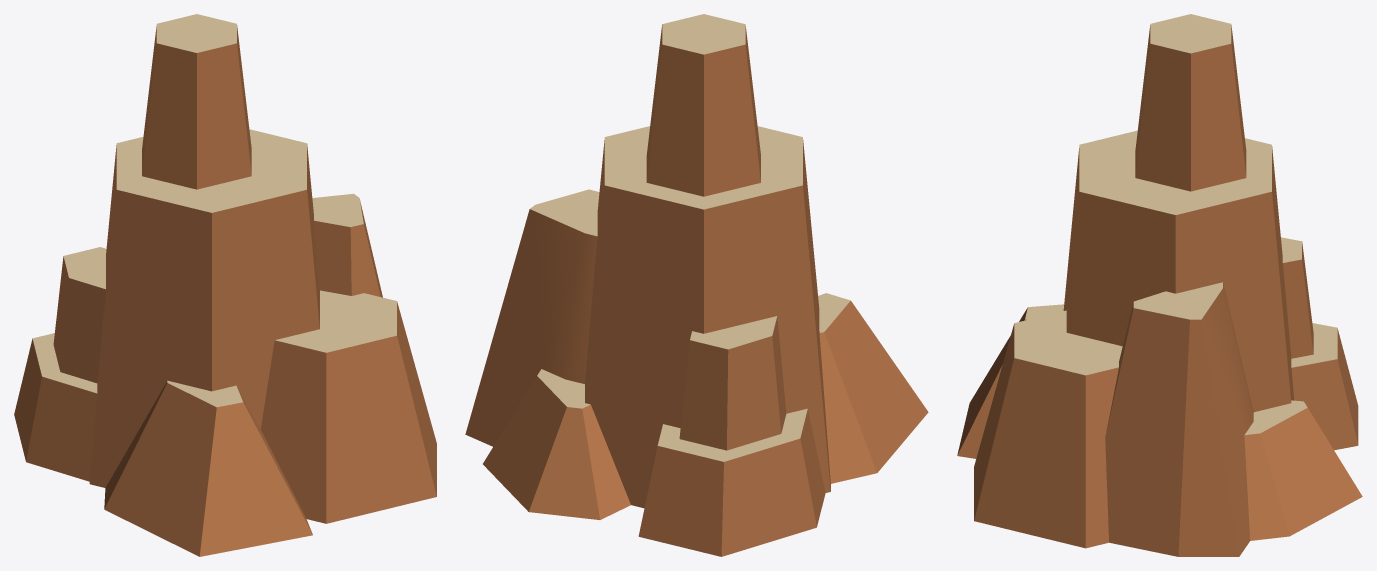
Rendered from d_kenney_recif.glb.
3 views of the same model, side by side, from view 1: azimuth 30°, elevation 25°; view 2: azimuth 150°, elevation 25°; view 3: azimuth 270°, elevation 25° (orthographic). The views are drawn at different scales.
Visible parts, largest first — view 1: d_kenney_recif; view 2: d_kenney_recif; view 3: d_kenney_recif.
Part boxes in pixels (x1,y1,x2,y2): d_kenney_recif: (14,14,436,556); d_kenney_recif: (465,14,928,556); d_kenney_recif: (957,14,1362,556).
Size of the model in its own units: 1.06 by 1.22 by 1.07.
Materials: 1 (1 with a texture image).
